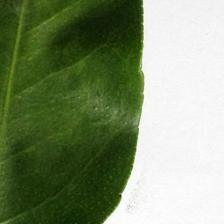healthy: (0, 1, 146, 224)
